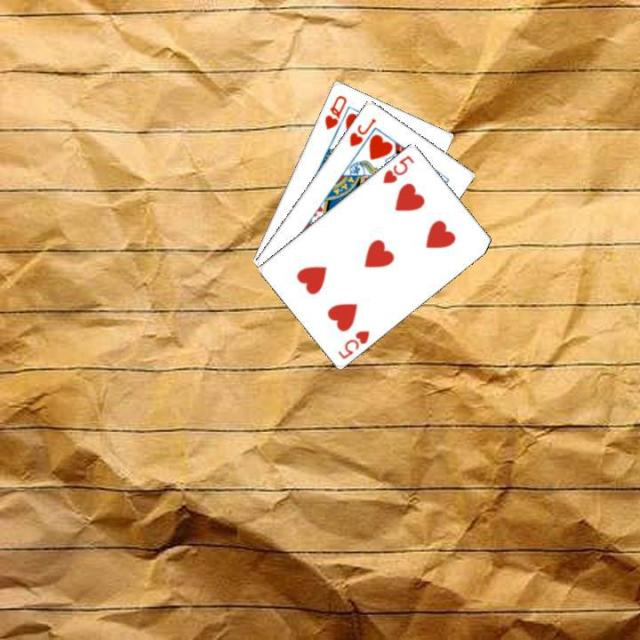5H: (334, 326, 372, 361), (379, 151, 416, 185)
JH: (345, 114, 378, 148)
QH: (321, 90, 348, 130)
